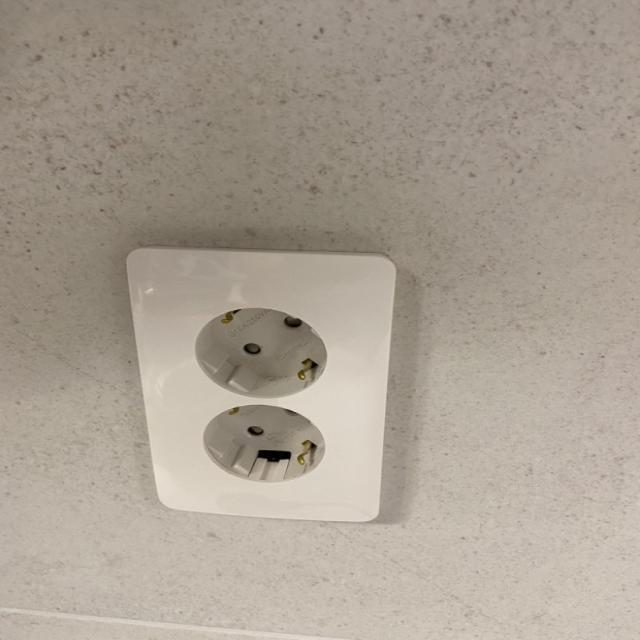typeb: (74, 217, 418, 562)
